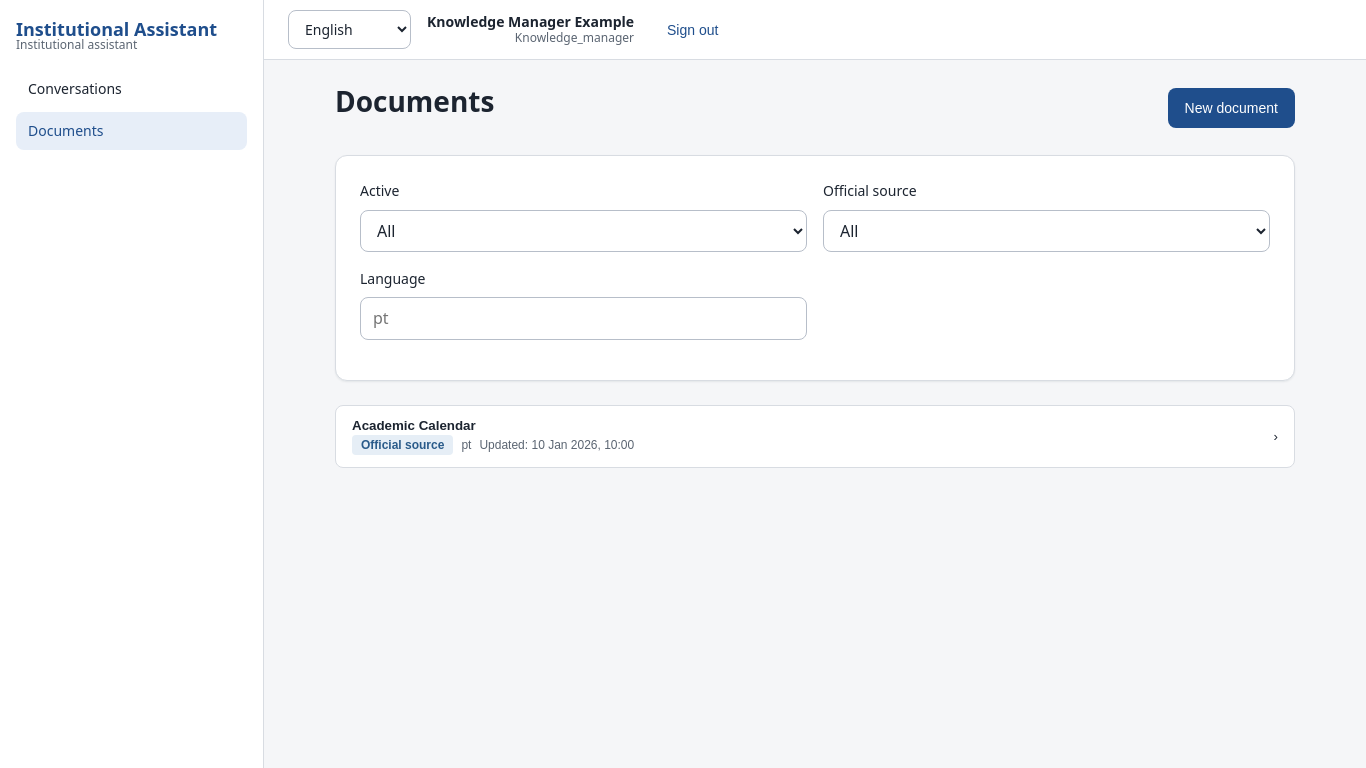
Test: documents admin area › keeps the typed data when creation fails
Click the button "New document".
click(1231, 108)  # box 1168,88 -> 1295,128
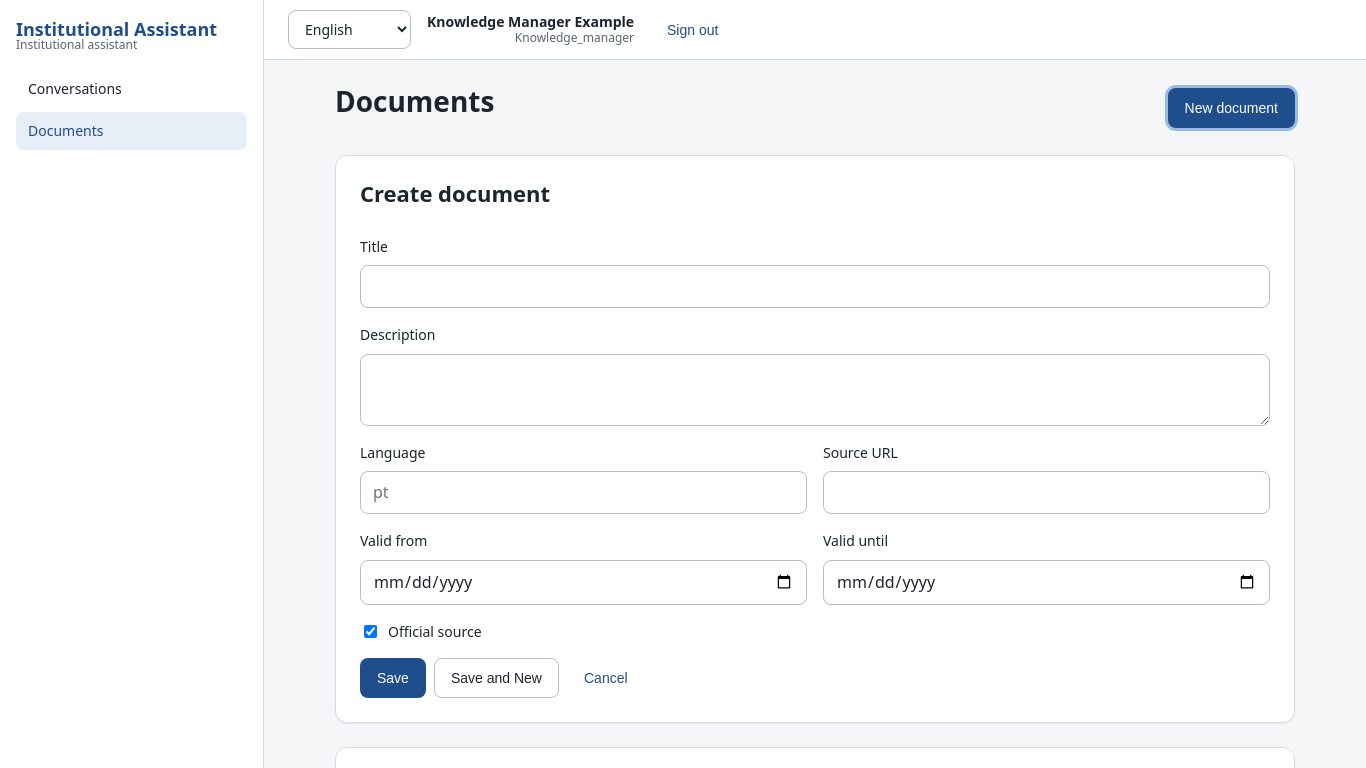
Type "Kept After Failure" into the field labelled "Title".
click(815, 287); type("Kept After Failure")  # box 360,265 -> 1270,308
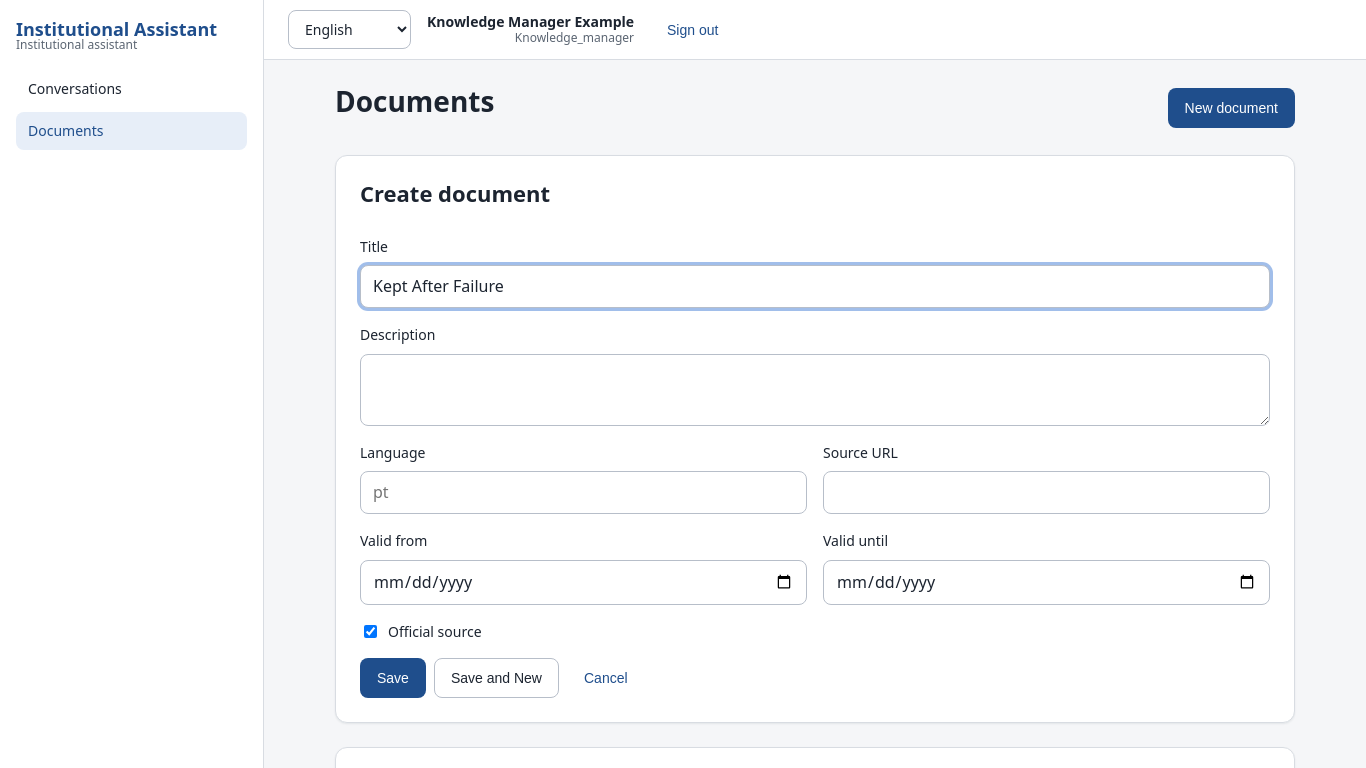
Click the button "Save".
click(393, 678)  # box 360,658 -> 426,698
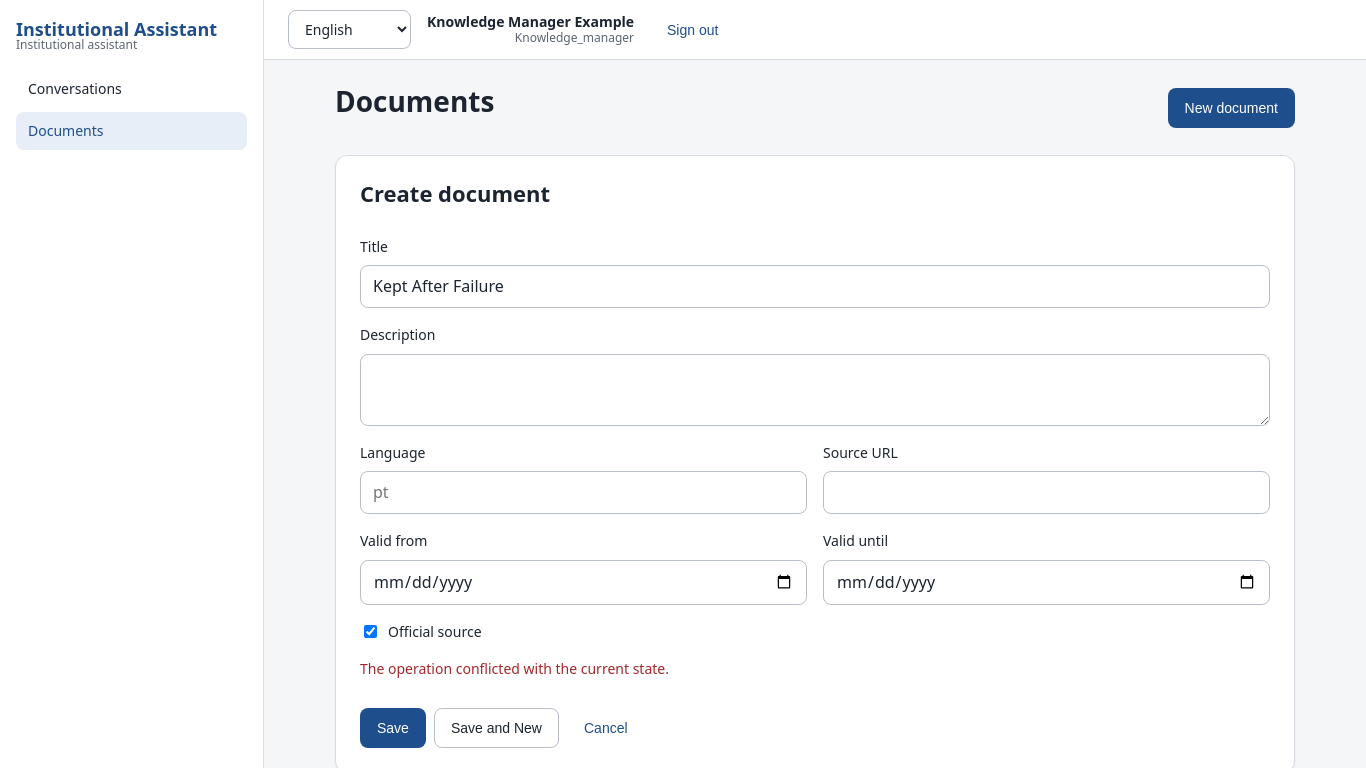
Result: the message "The operation conflicted with the current state." is shown at 360,659 -> 669,678
